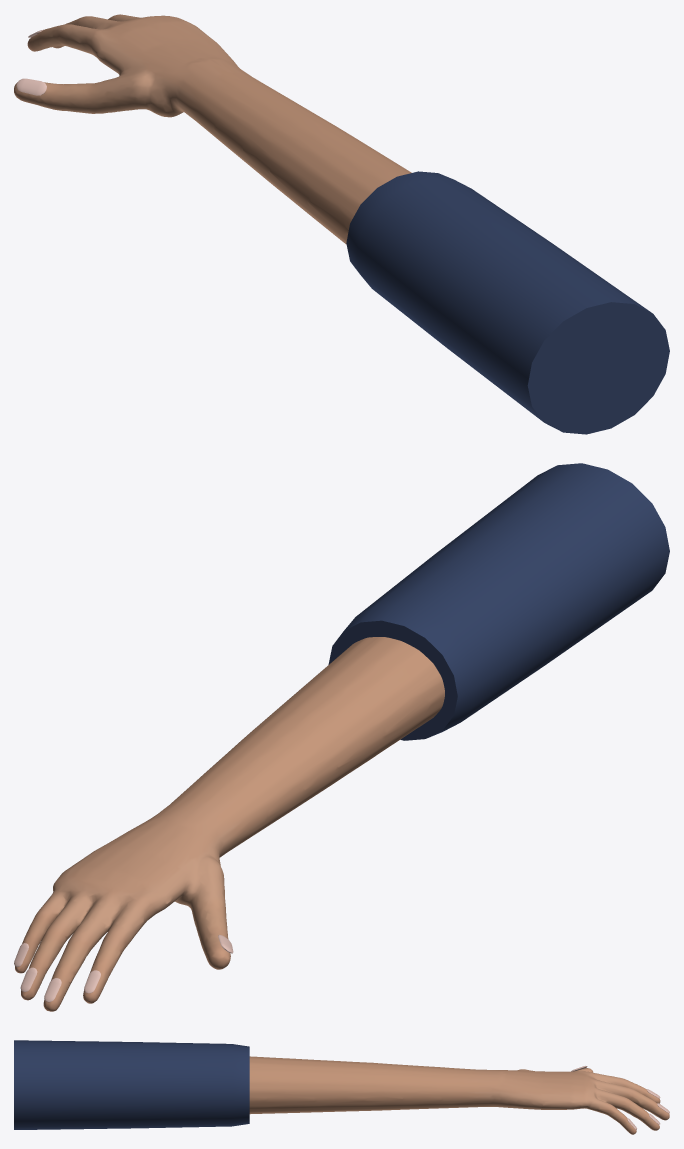
The model's file is tay_tha_long.glb.
3 views of the same model, one above another, from view 1: azimuth 30°, elevation 25°; view 2: azimuth 150°, elevation 25°; view 3: azimuth 270°, elevation 25° (orthographic). The views are drawn at different scales.
Parts seen in each view (by area): view 1: tay_tha_long; view 2: tay_tha_long; view 3: tay_tha_long.
Boxes of the visible parts, bbox=[...] form: tay_tha_long: bbox=[14, 14, 669, 434]; tay_tha_long: bbox=[14, 463, 669, 1011]; tay_tha_long: bbox=[14, 1040, 669, 1134].
Size of the model in its own units: 0.1549 by 0.0998 by 0.7518.
